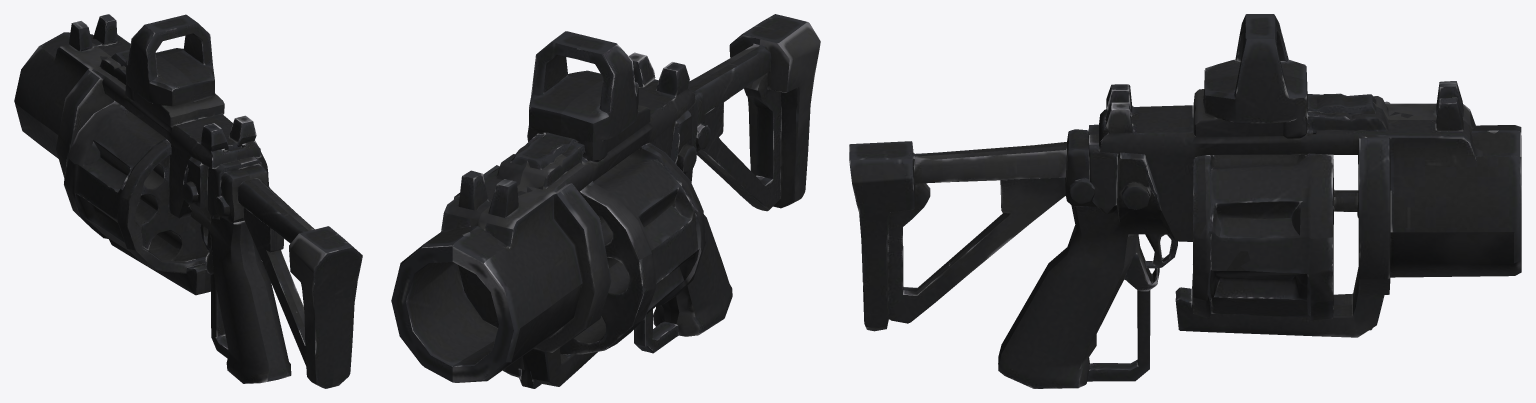
The model's file is grenade_launcher.glb.
The picture shows the model from 3 angles, left to right: view 1: azimuth 30°, elevation 25°; view 2: azimuth 150°, elevation 25°; view 3: azimuth 270°, elevation 25°; orthographic projection. The views are drawn at different scales.
Visible parts, largest first — view 1: grenade_launcher_world; view 2: grenade_launcher_world; view 3: grenade_launcher_world.
Part boxes in pixels (x1,y1,x2,y2): grenade_launcher_world: (14, 14, 362, 388); grenade_launcher_world: (391, 14, 820, 388); grenade_launcher_world: (849, 14, 1521, 388).
Bounding box in the file's own units: 0.2651 × 0.4646 × 0.803.
1 material, 1 textured.
